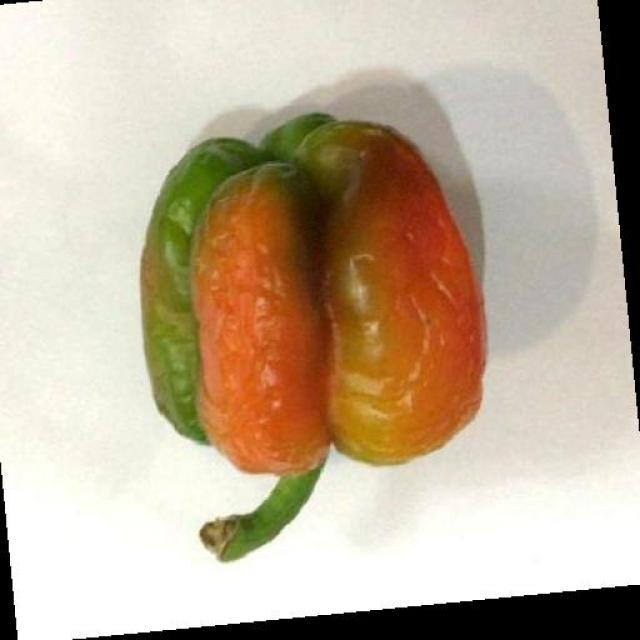Stale_Capsicum: (113, 108, 510, 558)
